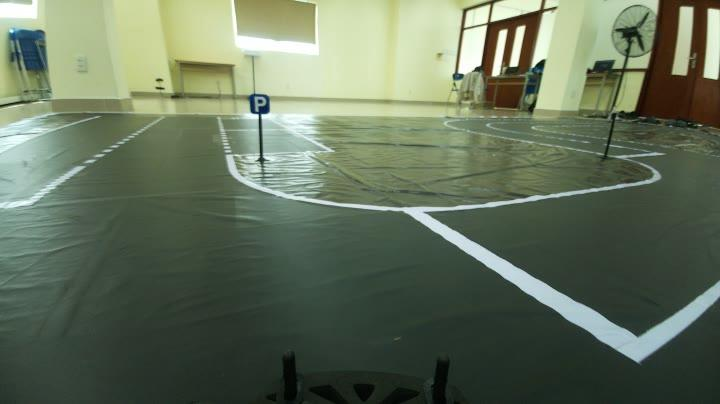parking: (247, 92, 270, 118)
